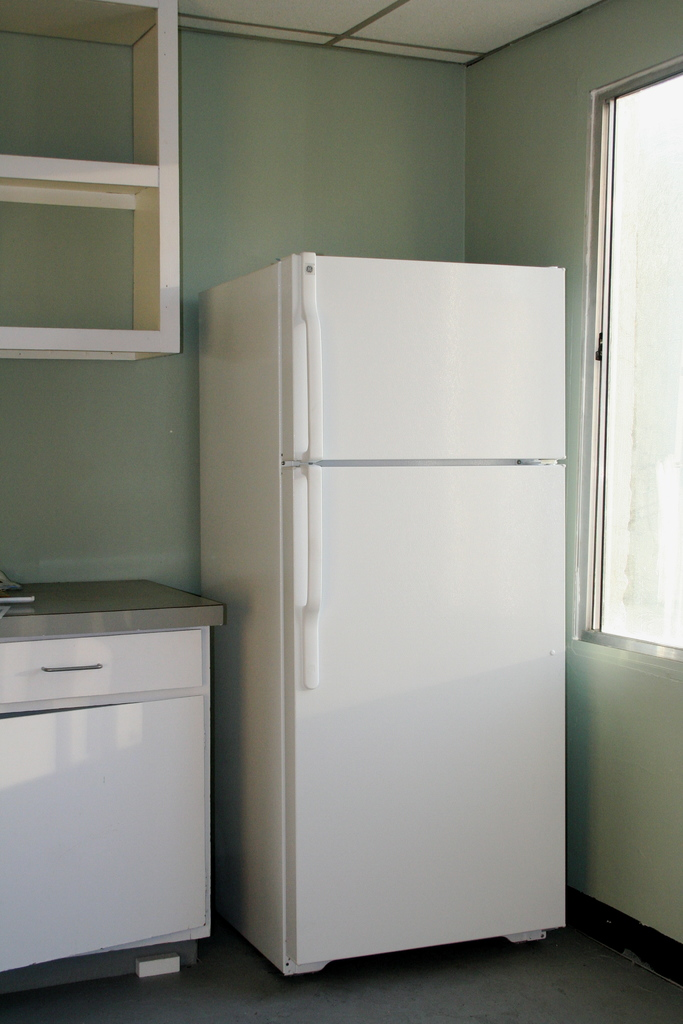cabinet door: (0, 720, 204, 923), (1, 637, 205, 701)
handle: (299, 255, 331, 454), (296, 474, 328, 666), (41, 650, 102, 681)
refrigerator door: (297, 465, 565, 939), (290, 249, 563, 452)
